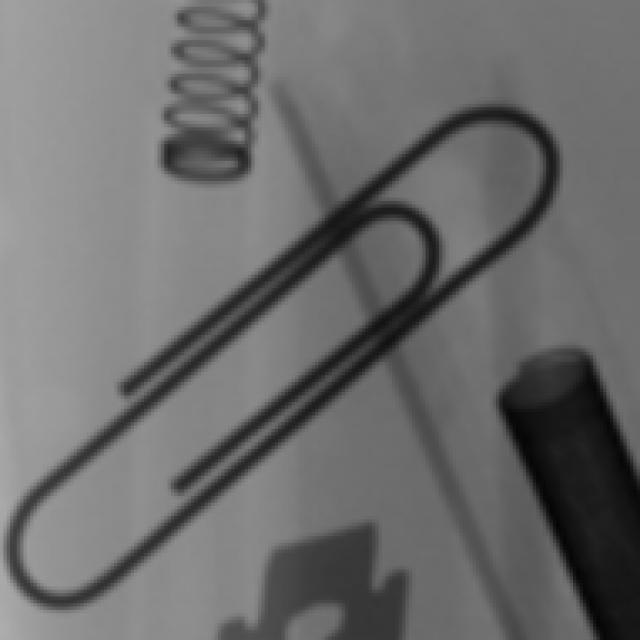GUN: (486, 377, 640, 635)
